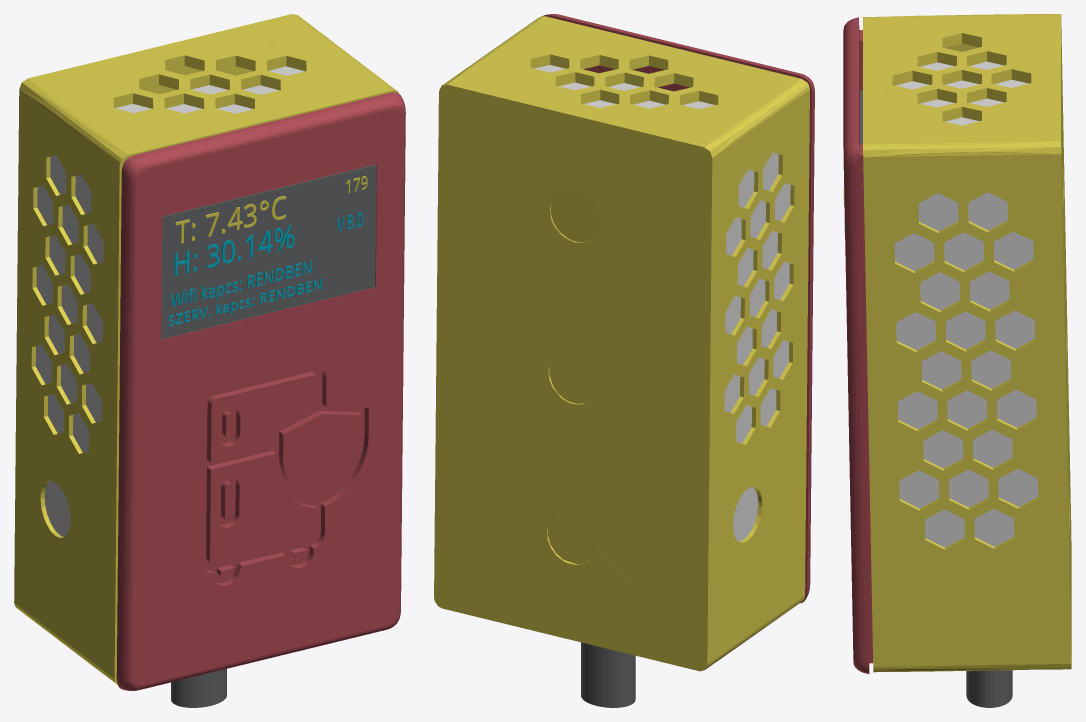
File: sarga_piros.glb
3 renders of one model, left to right at view 1: azimuth 30°, elevation 25°; view 2: azimuth 150°, elevation 25°; view 3: azimuth 270°, elevation 25°, orthographic. The views are drawn at different scales.
Visible parts, largest first — view 1: Mesh_Mesh_head_geo.001_lambert2SG.001; view 2: Mesh_Mesh_head_geo.001_lambert2SG.001; view 3: Mesh_Mesh_head_geo.001_lambert2SG.001.
Part boxes in pixels (left/top/right/bottom): Mesh_Mesh_head_geo.001_lambert2SG.001: left=14, top=14, right=405, bottom=707; Mesh_Mesh_head_geo.001_lambert2SG.001: left=434, top=14, right=814, bottom=707; Mesh_Mesh_head_geo.001_lambert2SG.001: left=843, top=14, right=1071, bottom=707.
Bounding box in the file's own units: 33 × 70.15 × 23.52.
